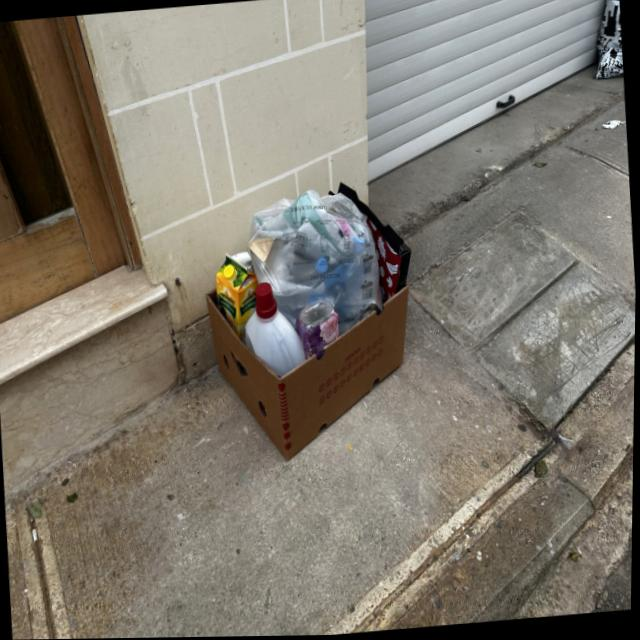Others Waste: (206, 182, 412, 462)
Recyclable Material -Grey Bags-: (248, 190, 384, 336)
